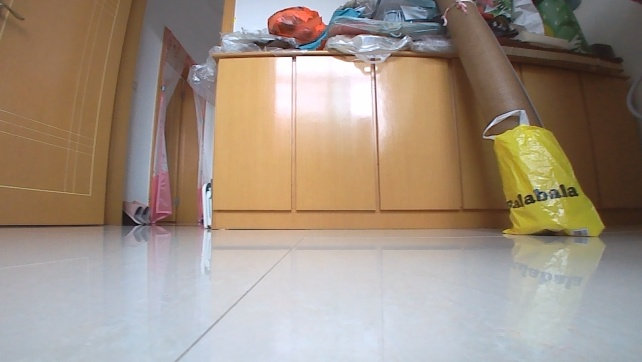door_anno: (0, 0, 148, 232)
shoe: (121, 198, 151, 227)
